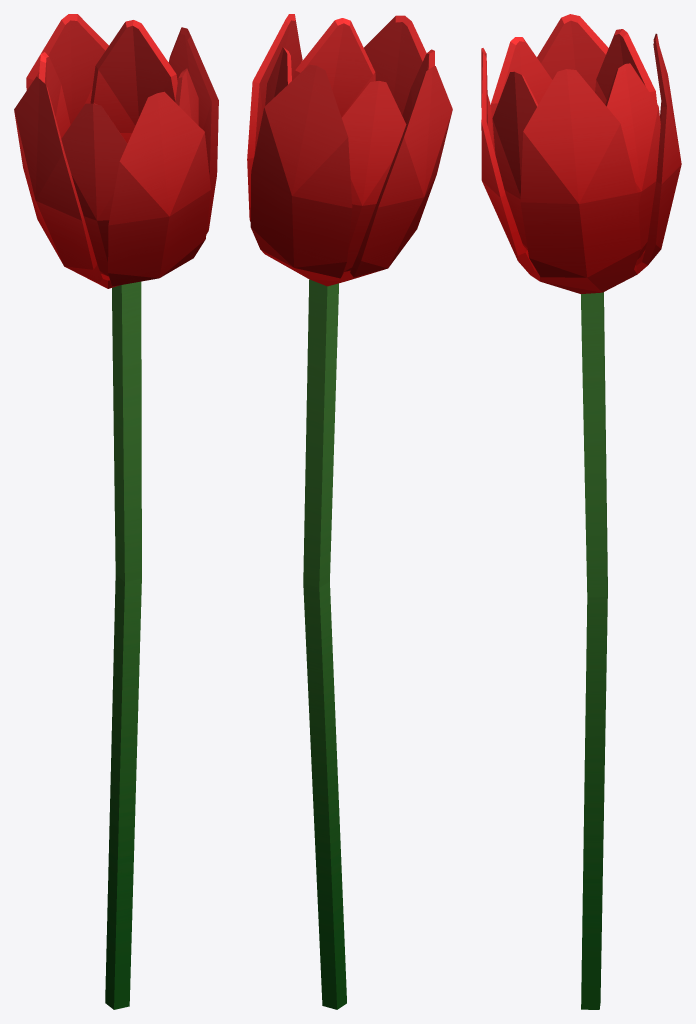
Rendered from Flower_Rose_02.fbx.
3 views of the same model, side by side, from view 1: azimuth 30°, elevation 25°; view 2: azimuth 150°, elevation 25°; view 3: azimuth 270°, elevation 25° (orthographic).
Visible parts, largest first — view 1: Flower_Rose_02; view 2: Flower_Rose_02; view 3: Flower_Rose_02.
Boxes of the visible parts, x1,y1,x2,y2 form: Flower_Rose_02: (14, 14, 218, 1009); Flower_Rose_02: (247, 14, 452, 1009); Flower_Rose_02: (481, 14, 681, 1009).
Size of the model in its own units: 10.58 by 57.91 by 10.9.
